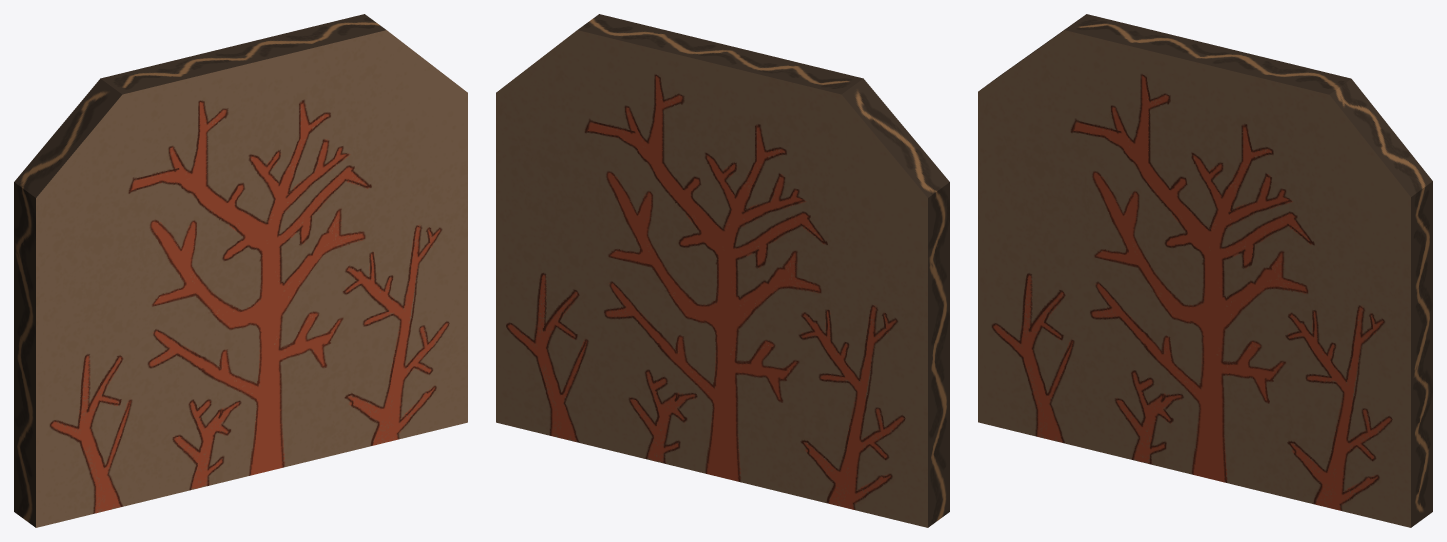
Rendered from CoralBox.fbx.
3 views of the same model, side by side, from view 1: azimuth 30°, elevation 25°; view 2: azimuth 150°, elevation 25°; view 3: azimuth 330°, elevation 25° (orthographic).
Visible parts, largest first — view 1: BoxCentral; view 2: BoxCentral; view 3: BoxCentral.
Part boxes in pixels (x1,y1,x2,y2): BoxCentral: (14, 14, 467, 527); BoxCentral: (496, 14, 949, 527); BoxCentral: (978, 14, 1432, 527).
Size of the model in its own units: 2 by 1.82 by 0.1763.
